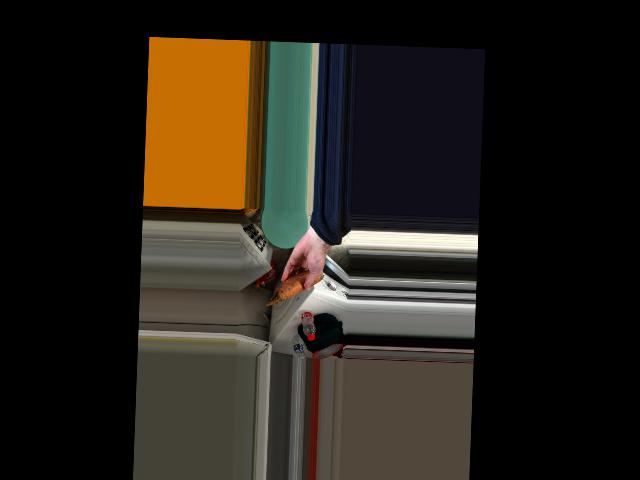sweet_potato: (281, 271, 317, 298)
